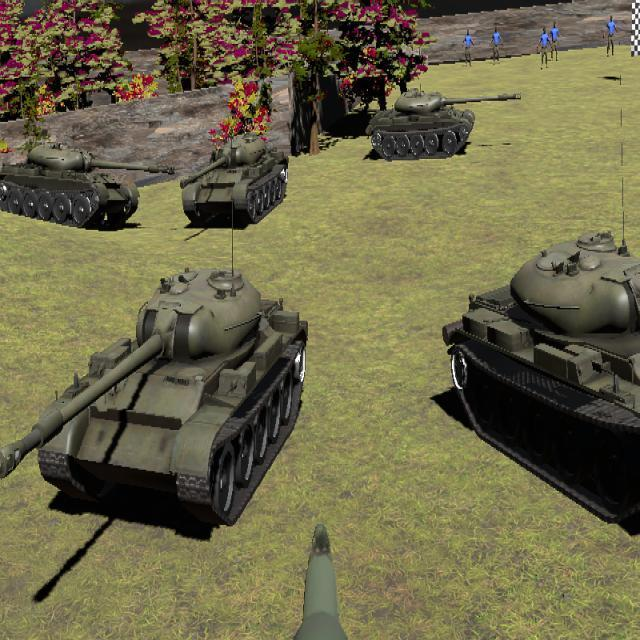Human: (537, 26, 553, 70), (603, 15, 617, 57), (490, 27, 504, 65), (548, 22, 561, 62)
Tank: (0, 266, 310, 524), (442, 230, 639, 531), (0, 142, 176, 230), (367, 89, 523, 163), (179, 130, 288, 227)
